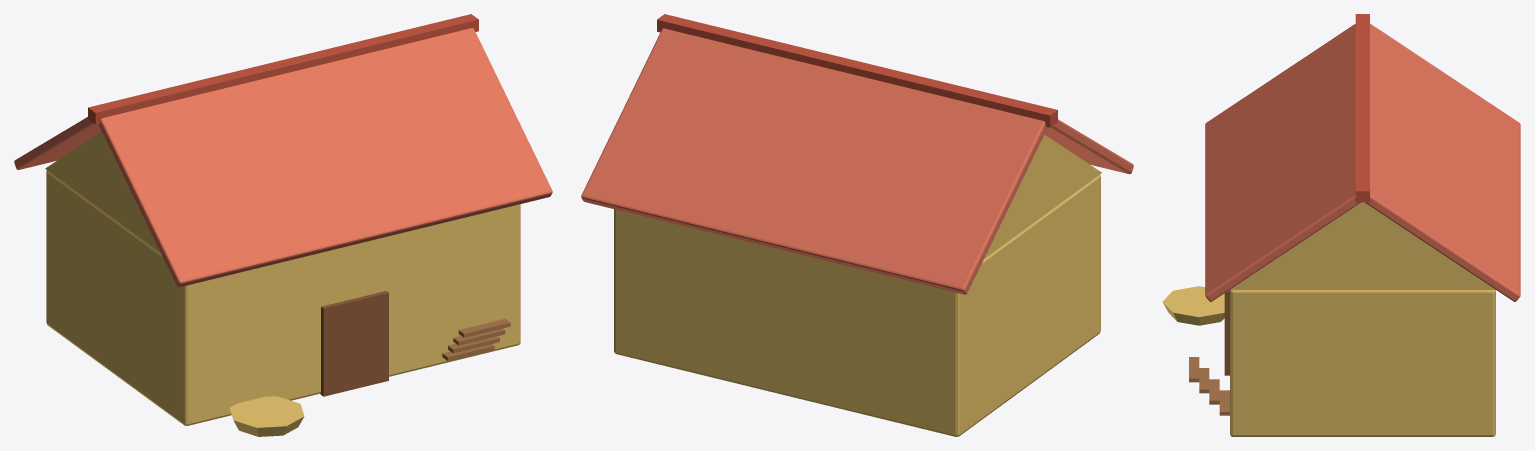
File: chuong-ga.glb
The picture shows the model from 3 angles, left to right: view 1: azimuth 30°, elevation 25°; view 2: azimuth 150°, elevation 25°; view 3: azimuth 270°, elevation 25°; orthographic projection. The views are drawn at different scales.
Parts seen in each view (by area): view 1: chuong-ga-3, chuong-ga-0, chuong-ga-5, chuong-ga-4, chuong-ga-1, chuong-ga-10, chuong-ga-2; view 2: chuong-ga-2, chuong-ga-0, chuong-ga-4, chuong-ga-1, chuong-ga-3; view 3: chuong-ga-0, chuong-ga-3, chuong-ga-2, chuong-ga-1, chuong-ga-4, chuong-ga-10, chuong-ga-5.
Part boxes in pixels (bbox=[...]): chuong-ga-3: bbox=[98, 28, 552, 287]; chuong-ga-0: bbox=[46, 170, 520, 425]; chuong-ga-5: bbox=[320, 291, 388, 396]; chuong-ga-4: bbox=[88, 14, 478, 124]; chuong-ga-1: bbox=[45, 131, 160, 252]; chuong-ga-10: bbox=[229, 396, 304, 436]; chuong-ga-2: bbox=[14, 117, 101, 169]; chuong-ga-2: bbox=[581, 28, 1047, 294]; chuong-ga-0: bbox=[614, 174, 1100, 436]; chuong-ga-4: bbox=[657, 14, 1057, 127]; chuong-ga-1: bbox=[984, 134, 1101, 258]; chuong-ga-3: bbox=[1044, 119, 1133, 174]; chuong-ga-0: bbox=[1230, 290, 1495, 436]; chuong-ga-3: bbox=[1205, 24, 1360, 301]; chuong-ga-2: bbox=[1365, 23, 1520, 301]; chuong-ga-1: bbox=[1230, 202, 1495, 289]; chuong-ga-4: bbox=[1355, 14, 1369, 202]; chuong-ga-10: bbox=[1162, 286, 1224, 325]; chuong-ga-5: bbox=[1224, 290, 1229, 375].
Size of the model in its own units: 4.1 by 2.78 by 3.5.
